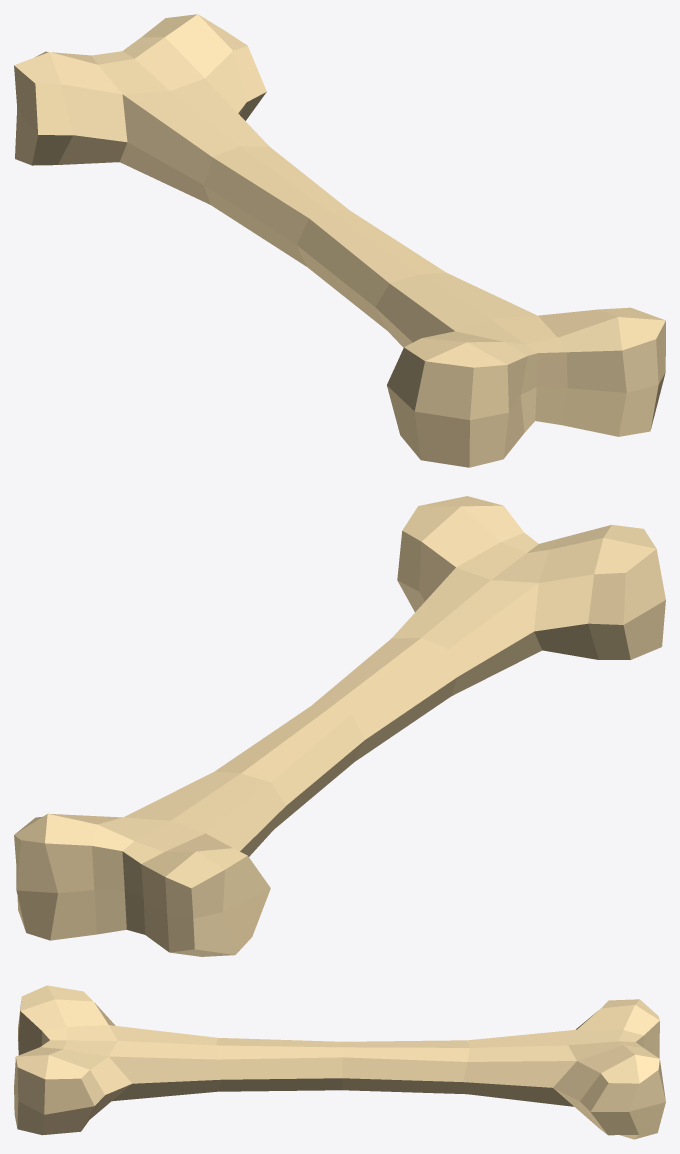
File: Bone.fbx
3 renders of one model, top to bottom at view 1: azimuth 30°, elevation 25°; view 2: azimuth 150°, elevation 25°; view 3: azimuth 270°, elevation 25°, orthographic. The views are drawn at different scales.
Visible parts, largest first — view 1: RootBone; view 2: RootBone; view 3: RootBone.
Boxes of the visible parts, x1=… form: RootBone: x1=14, y1=14, x2=665, y2=467; RootBone: x1=14, y1=496, x2=665, y2=956; RootBone: x1=14, y1=985, x2=665, y2=1139.
Size of the model in its own units: 15.62 by 7.92 by 50.25.
